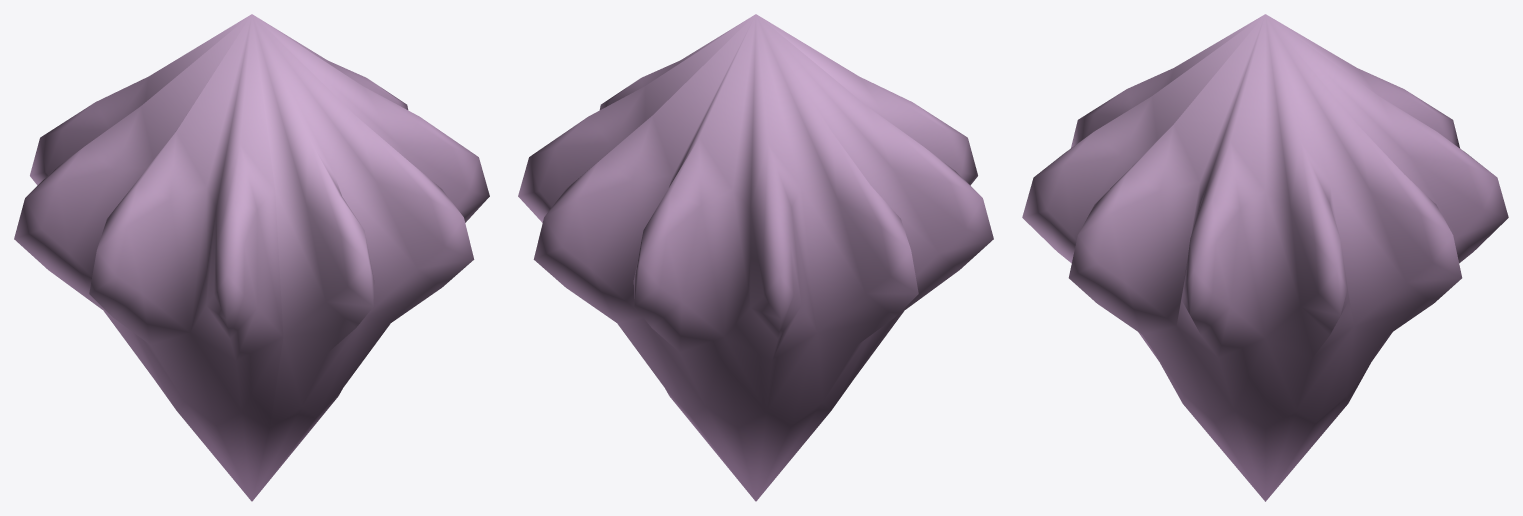
Rendered from Coral08.fbx.
3 renders of one model, left to right at view 1: azimuth 30°, elevation 25°; view 2: azimuth 150°, elevation 25°; view 3: azimuth 270°, elevation 25°, orthographic.
Parts seen in each view (by area): view 1: pCone1; view 2: pCone1; view 3: pCone1.
Boxes of the visible parts, <box> form: pCone1: <box>14,14,489,501</box>; pCone1: <box>518,14,993,501</box>; pCone1: <box>1022,14,1508,501</box>.
Bounding box in the file's own units: 2.93 × 3.41 × 3.08.
